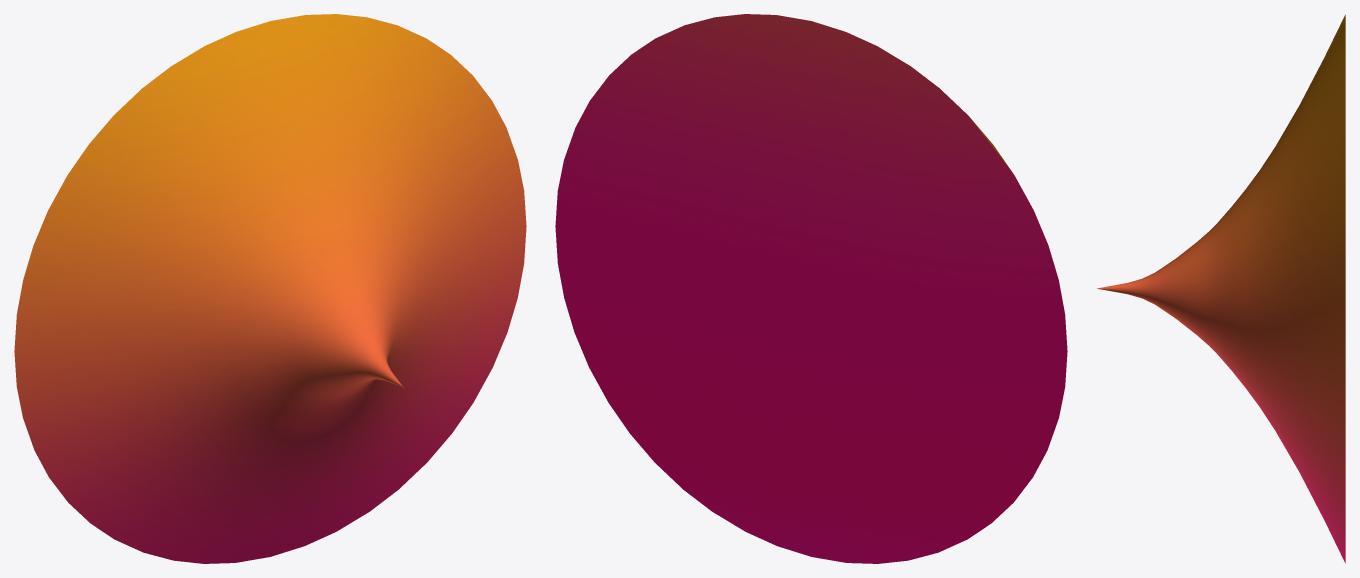
The model's file is solido.fbx.
3 renders of one model, left to right at view 1: azimuth 30°, elevation 25°; view 2: azimuth 150°, elevation 25°; view 3: azimuth 270°, elevation 25°, orthographic. The views are drawn at different scales.
Parts seen in each view (by area): view 1: y_x__solido:Mesh; view 2: y_x__solido:Mesh; view 3: y_x__solido:Mesh.
Part boxes in pixels (x1,y1,x2,y2): y_x__solido:Mesh: [14, 14, 526, 563]; y_x__solido:Mesh: [555, 14, 1067, 563]; y_x__solido:Mesh: [1097, 14, 1345, 563].
Size of the model in its own units: 40.07 by 40.07 by 18.14.
